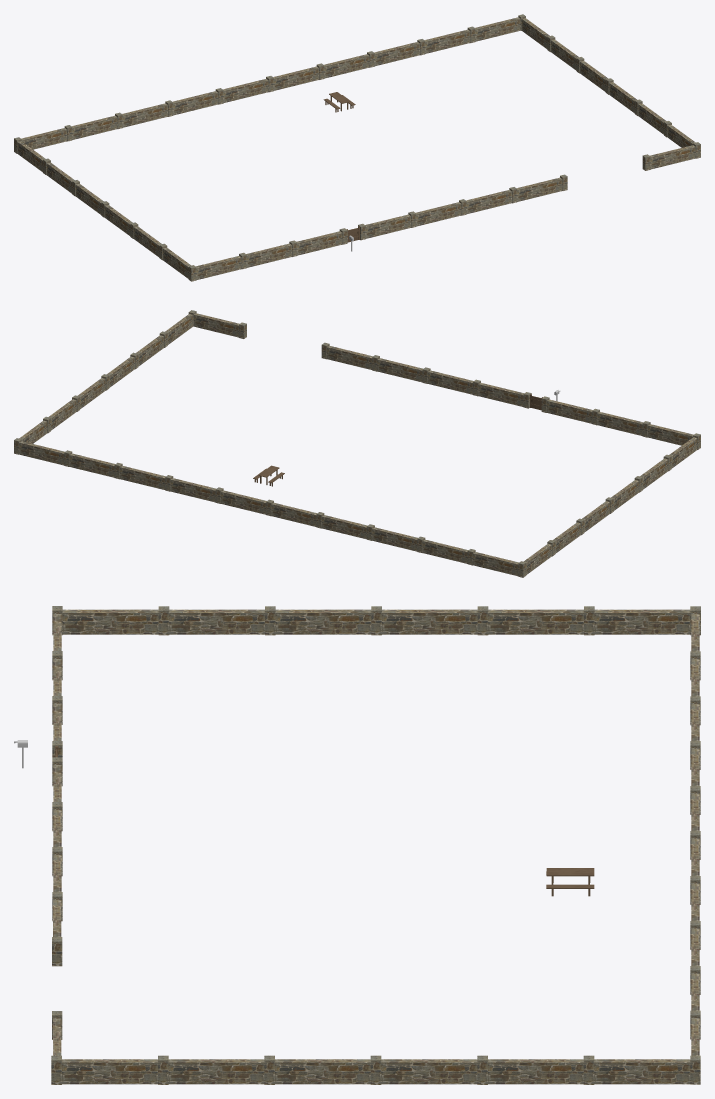
File: FarmFense02.fbx
3 renders of one model, top to bottom at view 1: azimuth 30°, elevation 25°; view 2: azimuth 150°, elevation 25°; view 3: azimuth 270°, elevation 25°, orthographic. The views are drawn at different scales.
Parts seen in each view (by area): view 1: FarmFence4.001; view 2: FarmFence4.001; view 3: FarmFence4.001, table.006.
Boxes of the visible parts, x1,y1,x2,y2 form: FarmFence4.001: (14, 14, 700, 281); FarmFence4.001: (14, 310, 700, 577); FarmFence4.001: (51, 606, 700, 1084); table.006: (546, 868, 594, 896).
Size of the model in its own units: 5159 by 144 by 3298.
